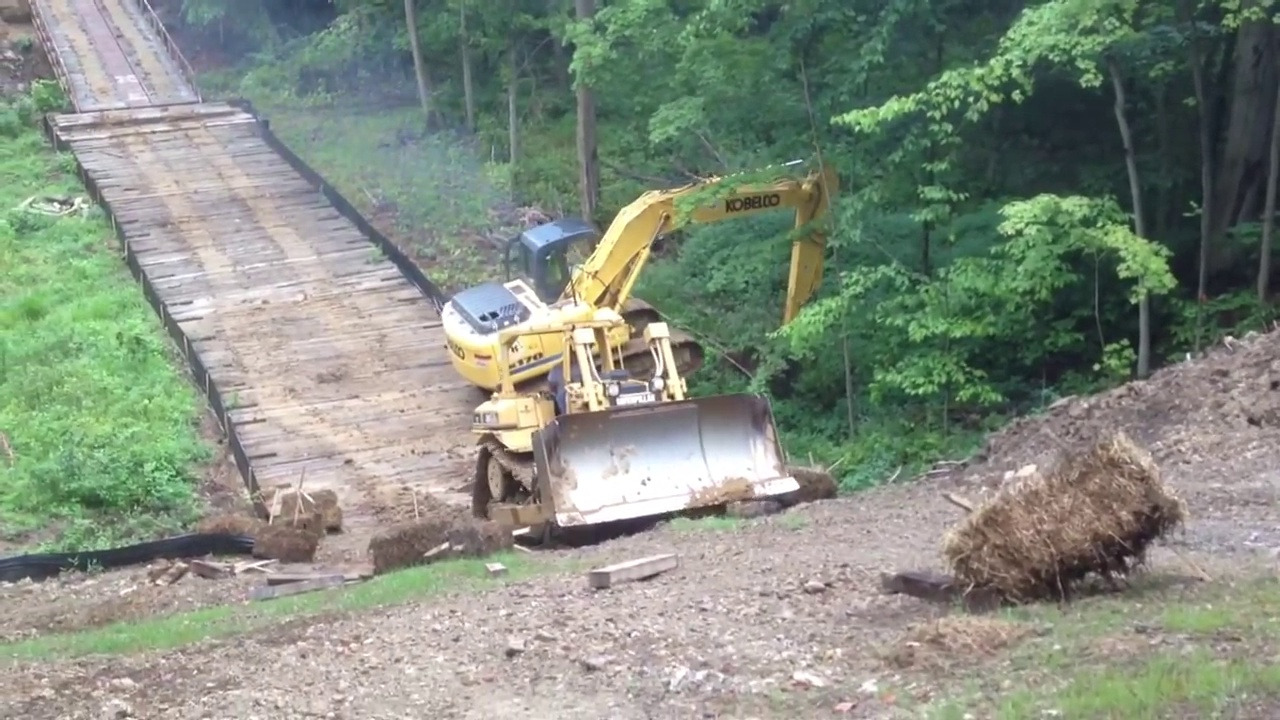excavator: (434, 156, 829, 392)
wheel loader: (469, 322, 801, 533)
